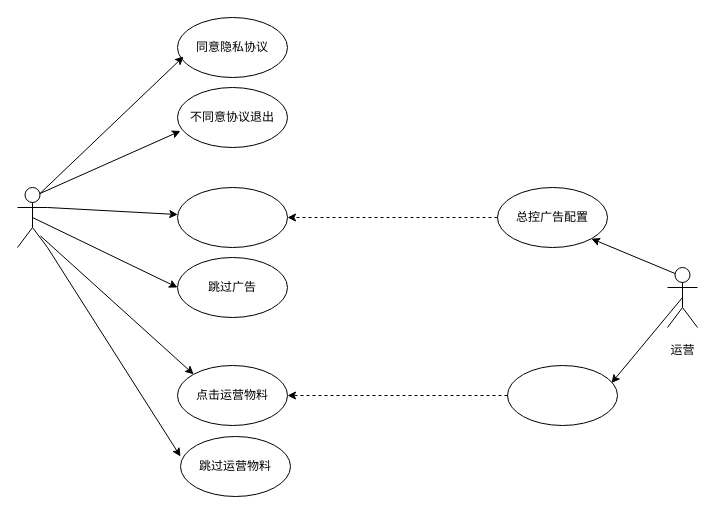
Some shapes in this 725 by 514 pixel diagram are drawn without their labels. Each missing label, with the centre of its shape:
点击广告: [232,217]
运营物料配置: [562,395]
